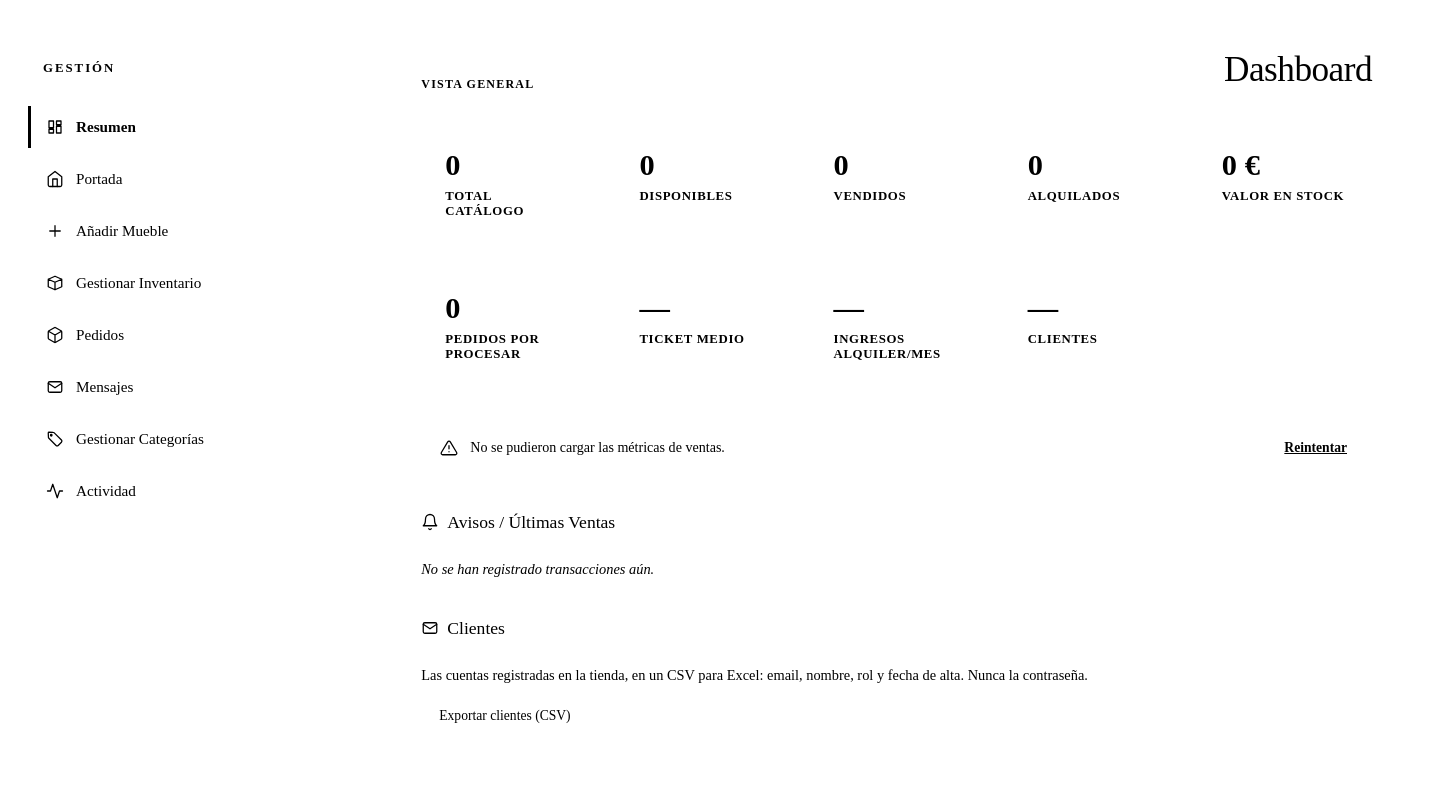
Test: Categorías — crear › "Crear Categoría" se desactiva mientras se crea: un doble clic hace una sola alta
Step 1. Click the button "Gestionar Categorías" → (185, 439), box top-left (28, 418), bottom-right (341, 460)
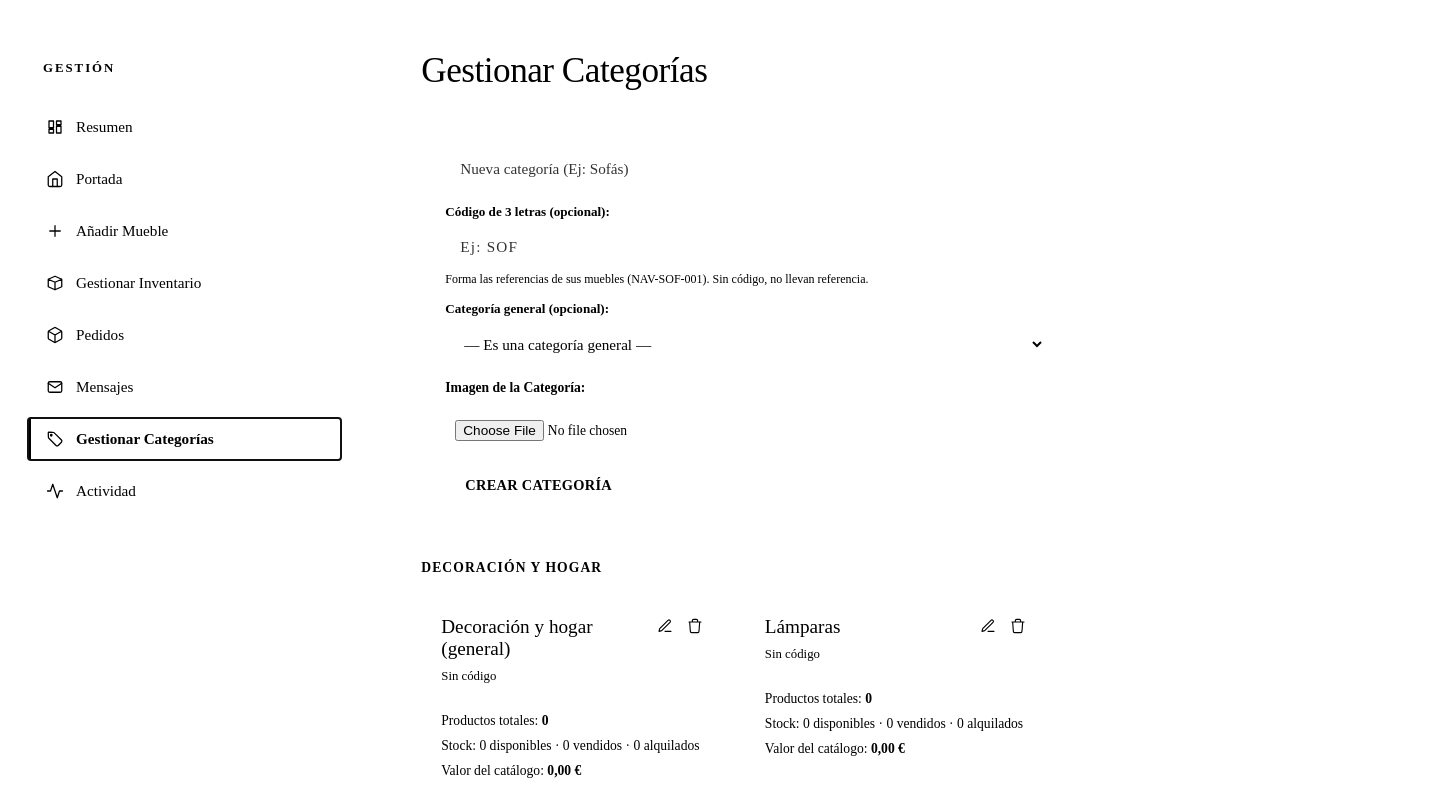
Step 2. Type "Exterior" into the field with placeholder "Nueva categoría (Ej: Sofás)" → (745, 169), box top-left (445, 148), bottom-right (1045, 190)
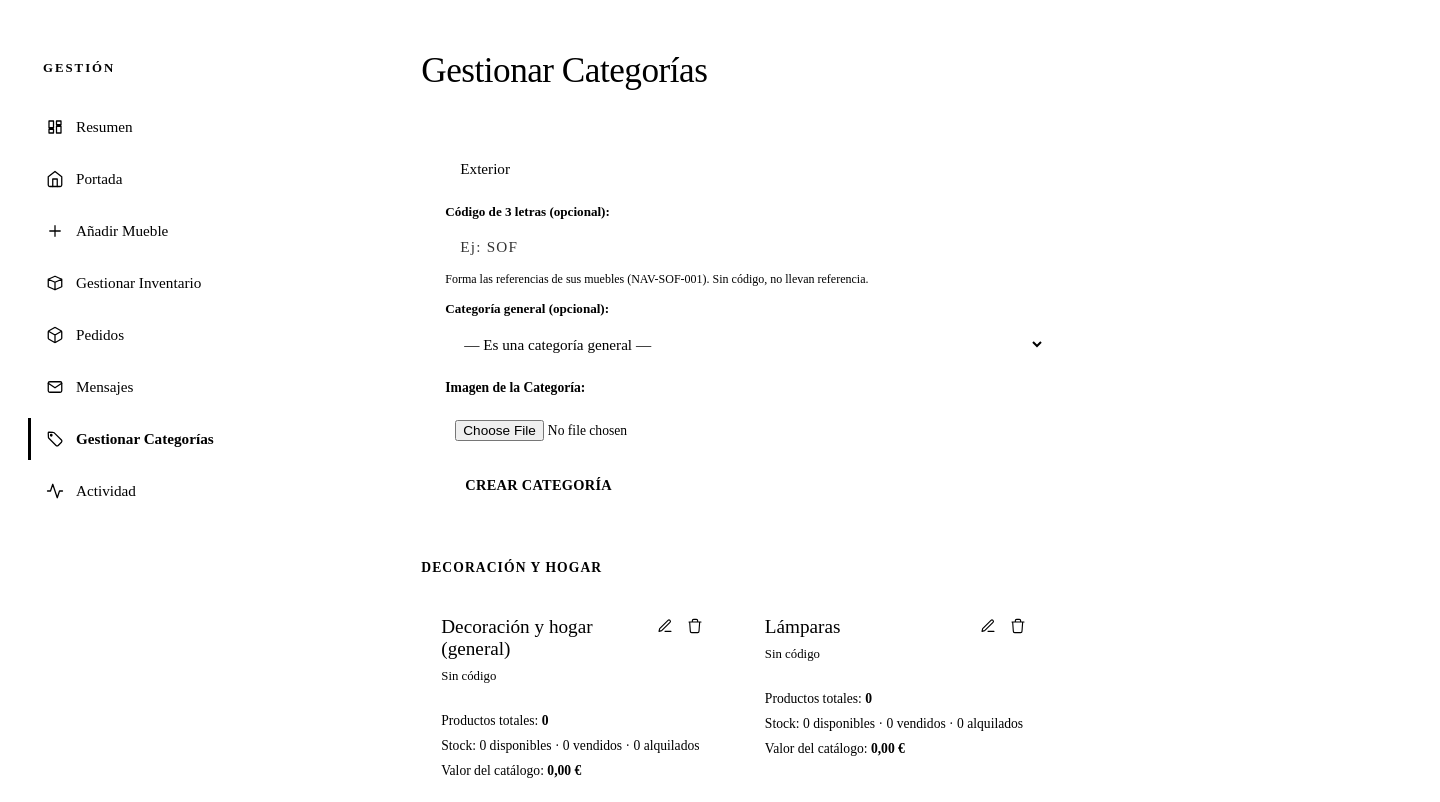
Step 3. Submit the form with placeholder "Nueva categoría (Ej: Sofás)", box top-left (421, 124), bottom-right (1069, 530)
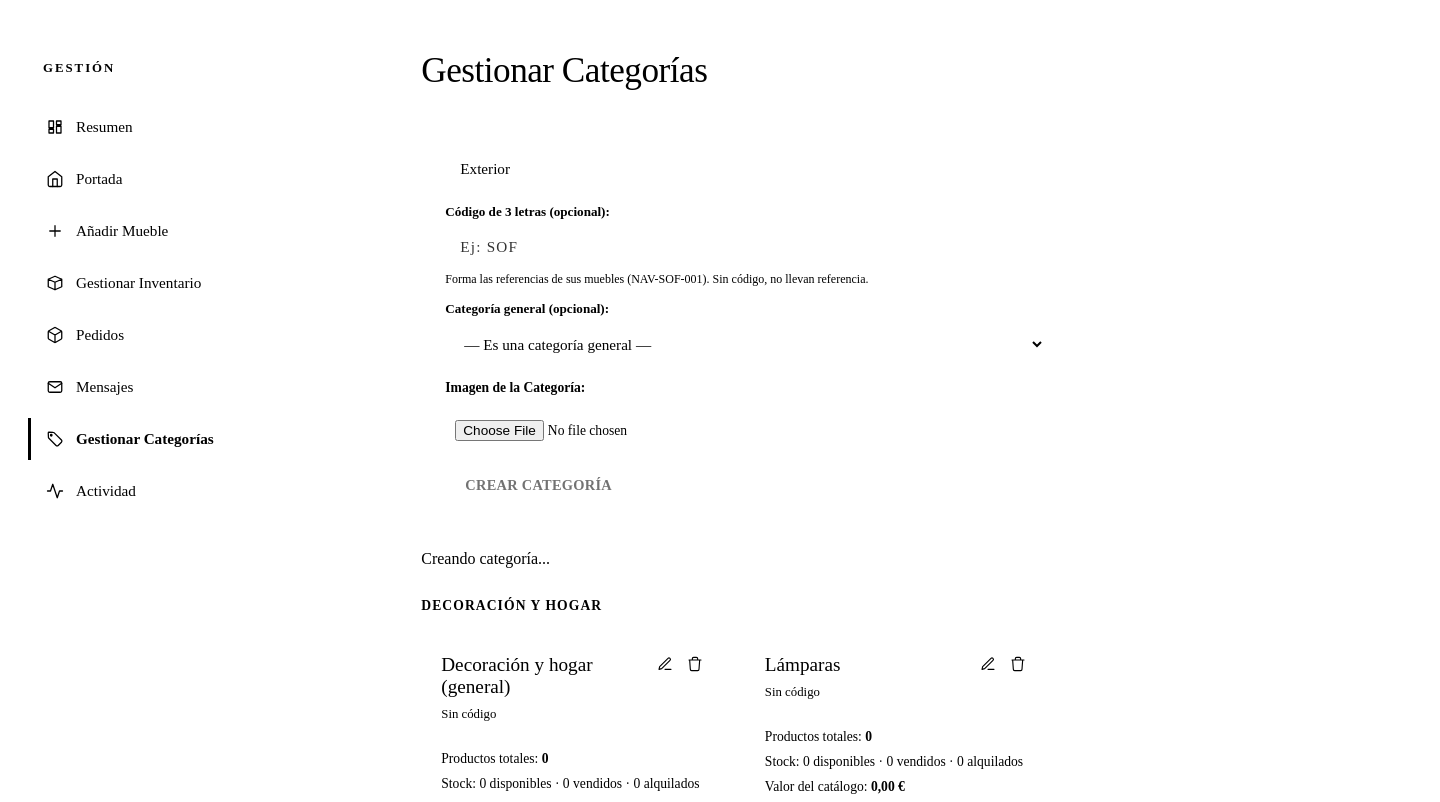
Check: the button "Crear Categoría" is disabled, box top-left (445, 465), bottom-right (632, 506)
Check: the text "Creando categoría..." is shown, box top-left (421, 550), bottom-right (550, 567)
Step 4. Submit the form with placeholder "Nueva categoría (Ej: Sofás)", box top-left (421, 124), bottom-right (1069, 530)
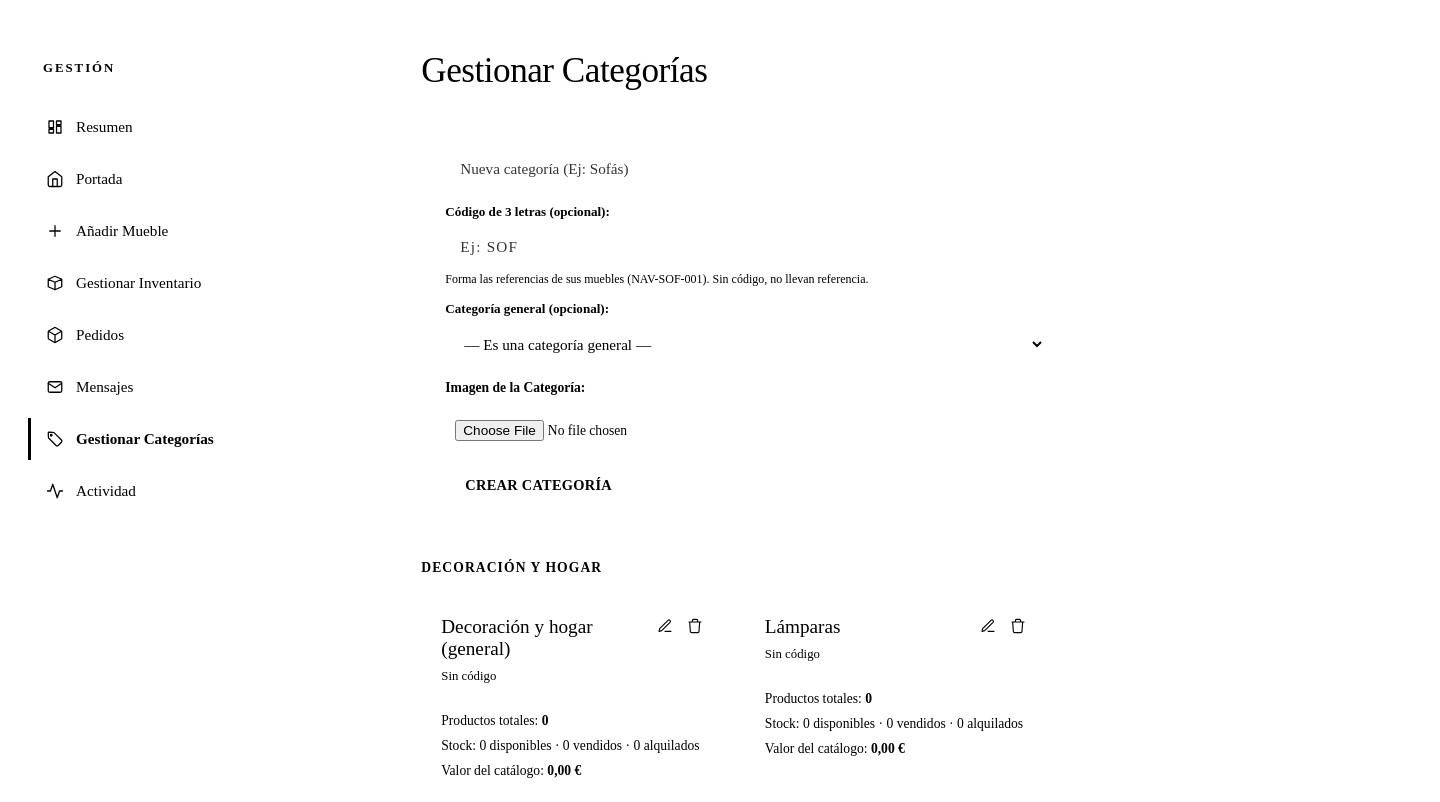
Check: the button "Crear Categoría" is enabled, box top-left (445, 465), bottom-right (632, 506)
Check: the text "Creando categoría..." is gone
